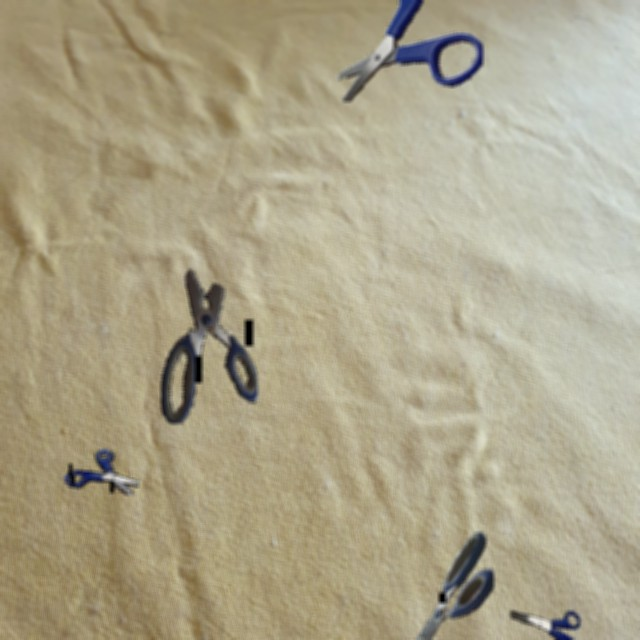scissors: (161, 269, 258, 424), (337, 0, 483, 102), (415, 531, 494, 640), (64, 449, 139, 495), (510, 610, 580, 640)
